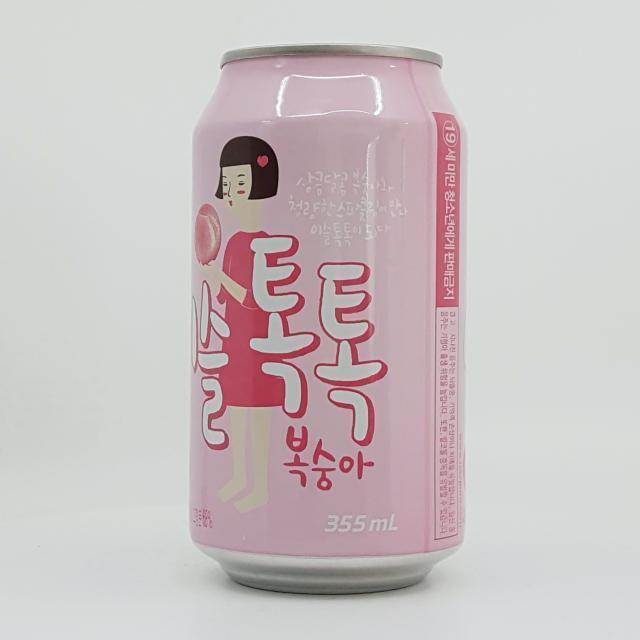metal-can: (189, 43, 467, 594)
